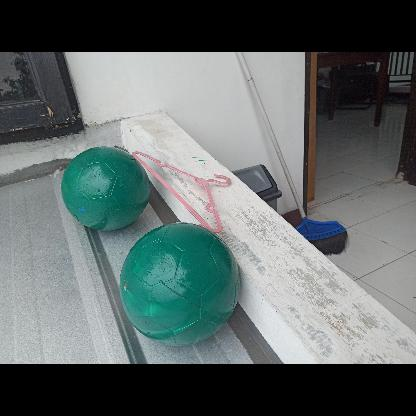green_ball: (121, 224, 242, 344), (62, 146, 148, 232)
